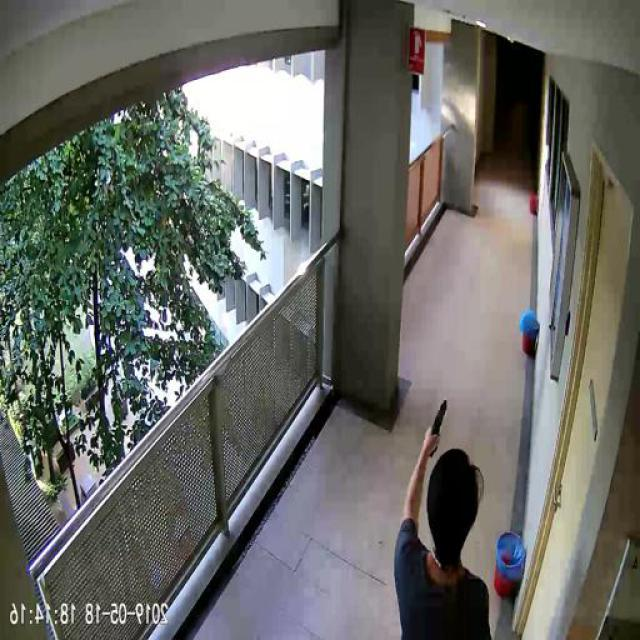Gun: (428, 396, 450, 455)
